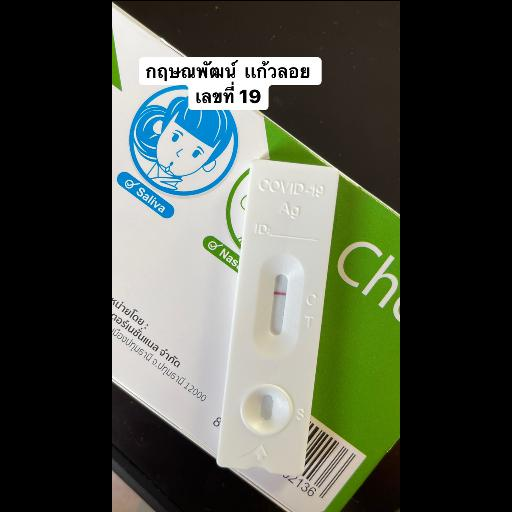Neg: (216, 158, 338, 477)
